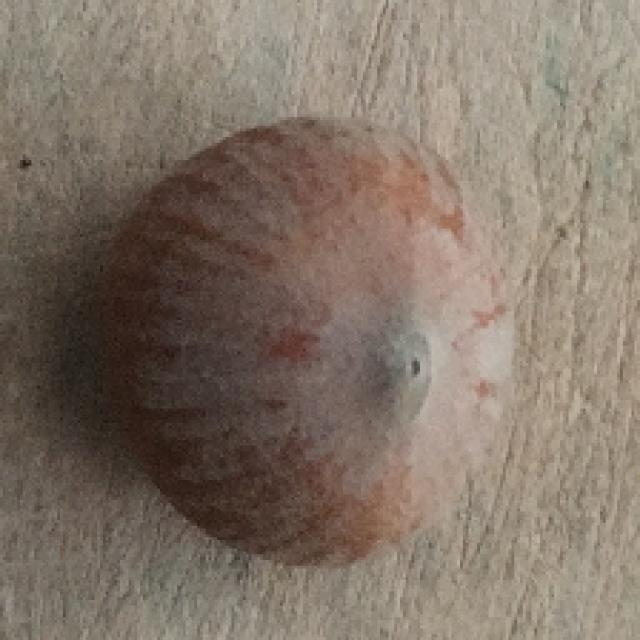qualityHazelnut: (83, 106, 523, 582)
